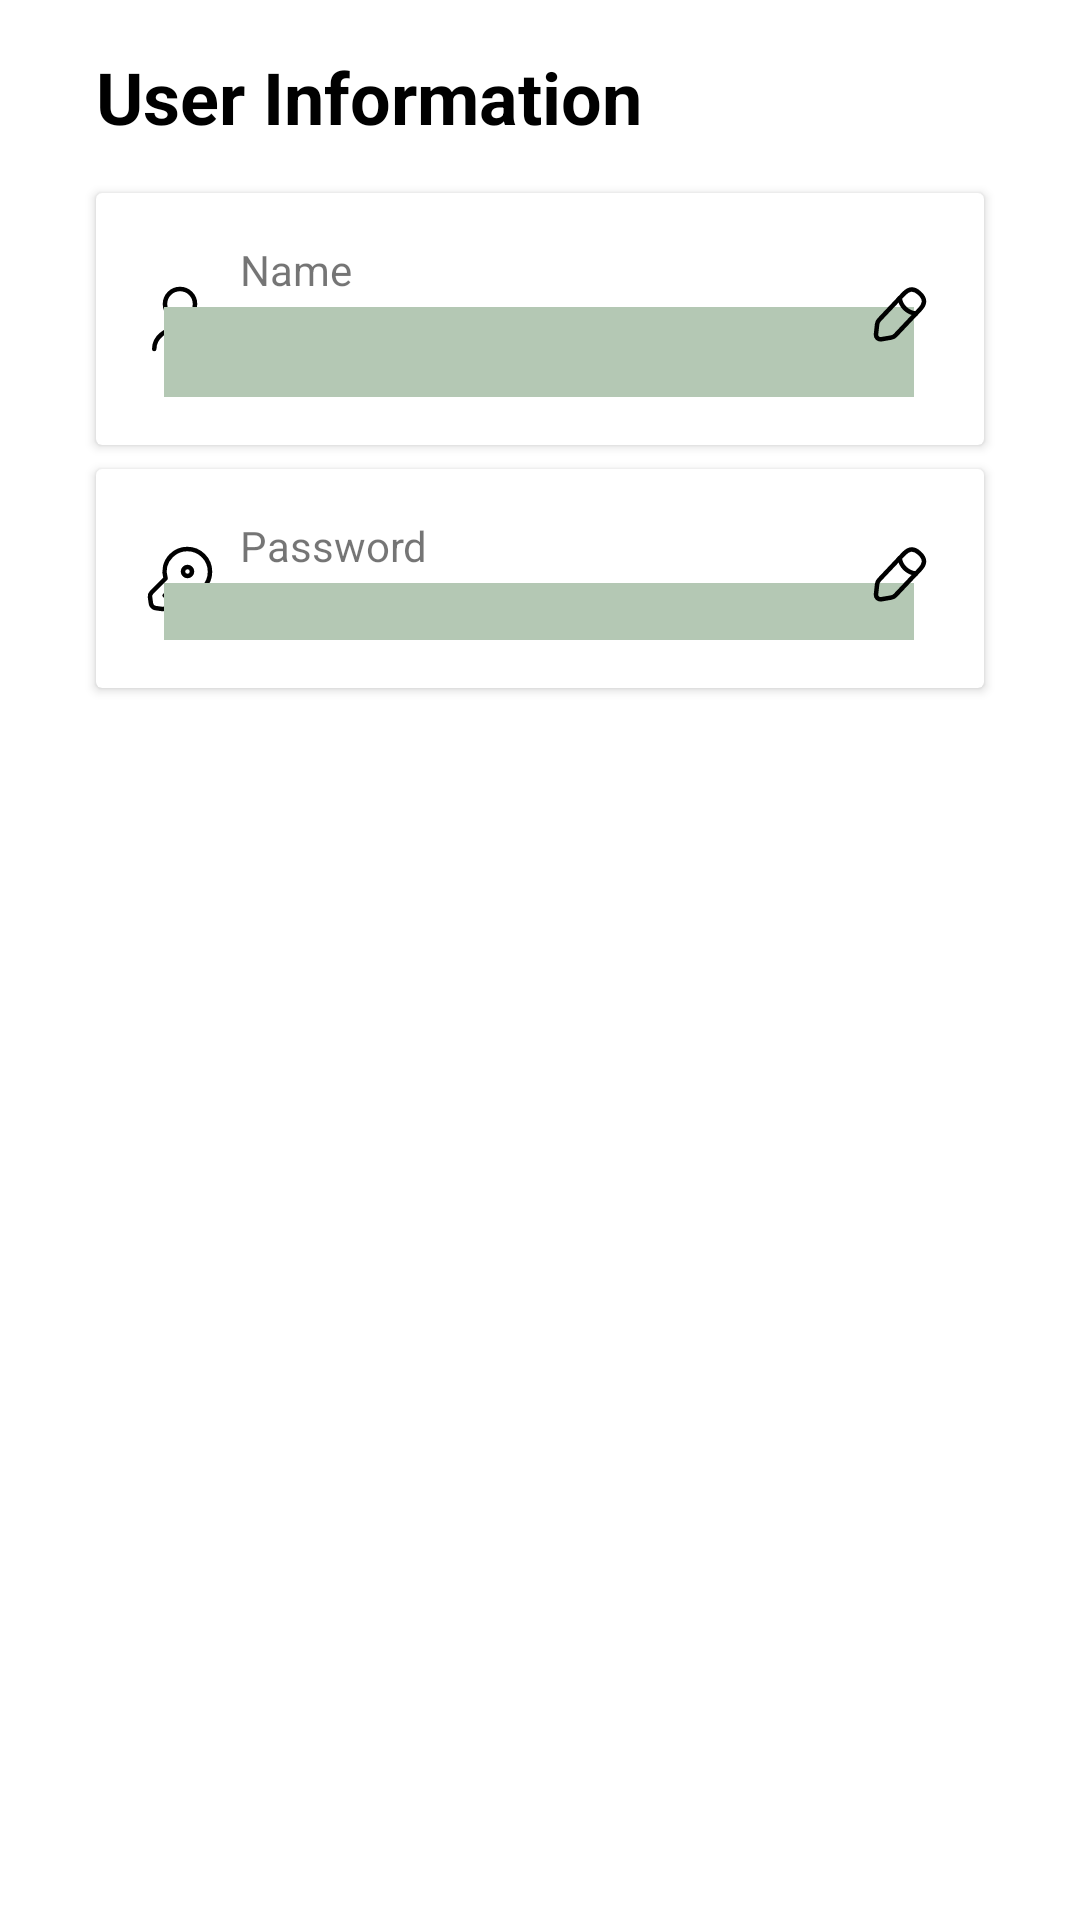

Where to tap for icons on this 1080x1920 app screen, as (x,y):
edit: (895,321), (895,581)
